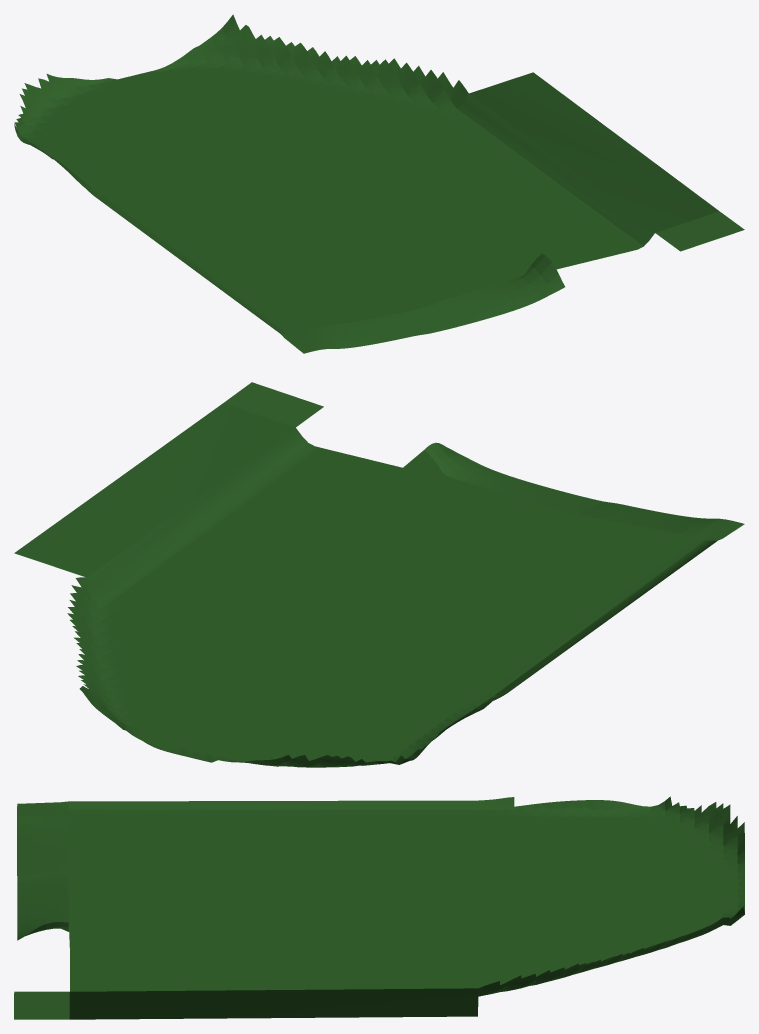
Rendered from new_top_left_ground.fbx.
3 renders of one model, top to bottom at view 1: azimuth 30°, elevation 25°; view 2: azimuth 150°, elevation 25°; view 3: azimuth 270°, elevation 25°, orthographic. The views are drawn at different scales.
Parts seen in each view (by area): view 1: Object005; view 2: Object005; view 3: Object005.
Boxes of the visible parts, x1,y1,x2,y2 form: Object005: [14, 14, 744, 353]; Object005: [14, 382, 744, 767]; Object005: [14, 796, 744, 1019].
Size of the model in its own units: 13137 by 1272 by 17244.
